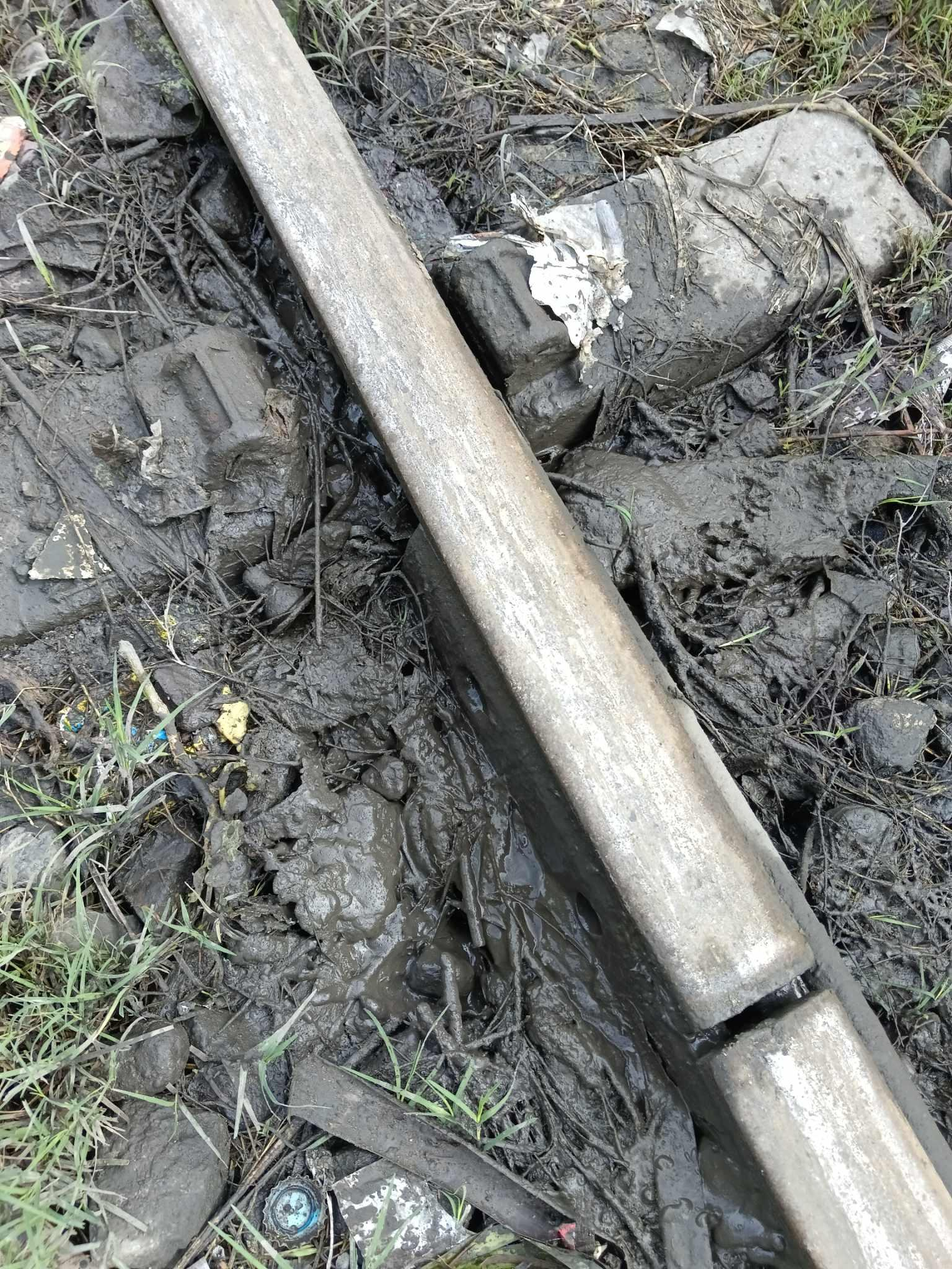railway-gap: (621, 872, 916, 1157)
